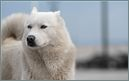dog: (0, 6, 77, 79)
